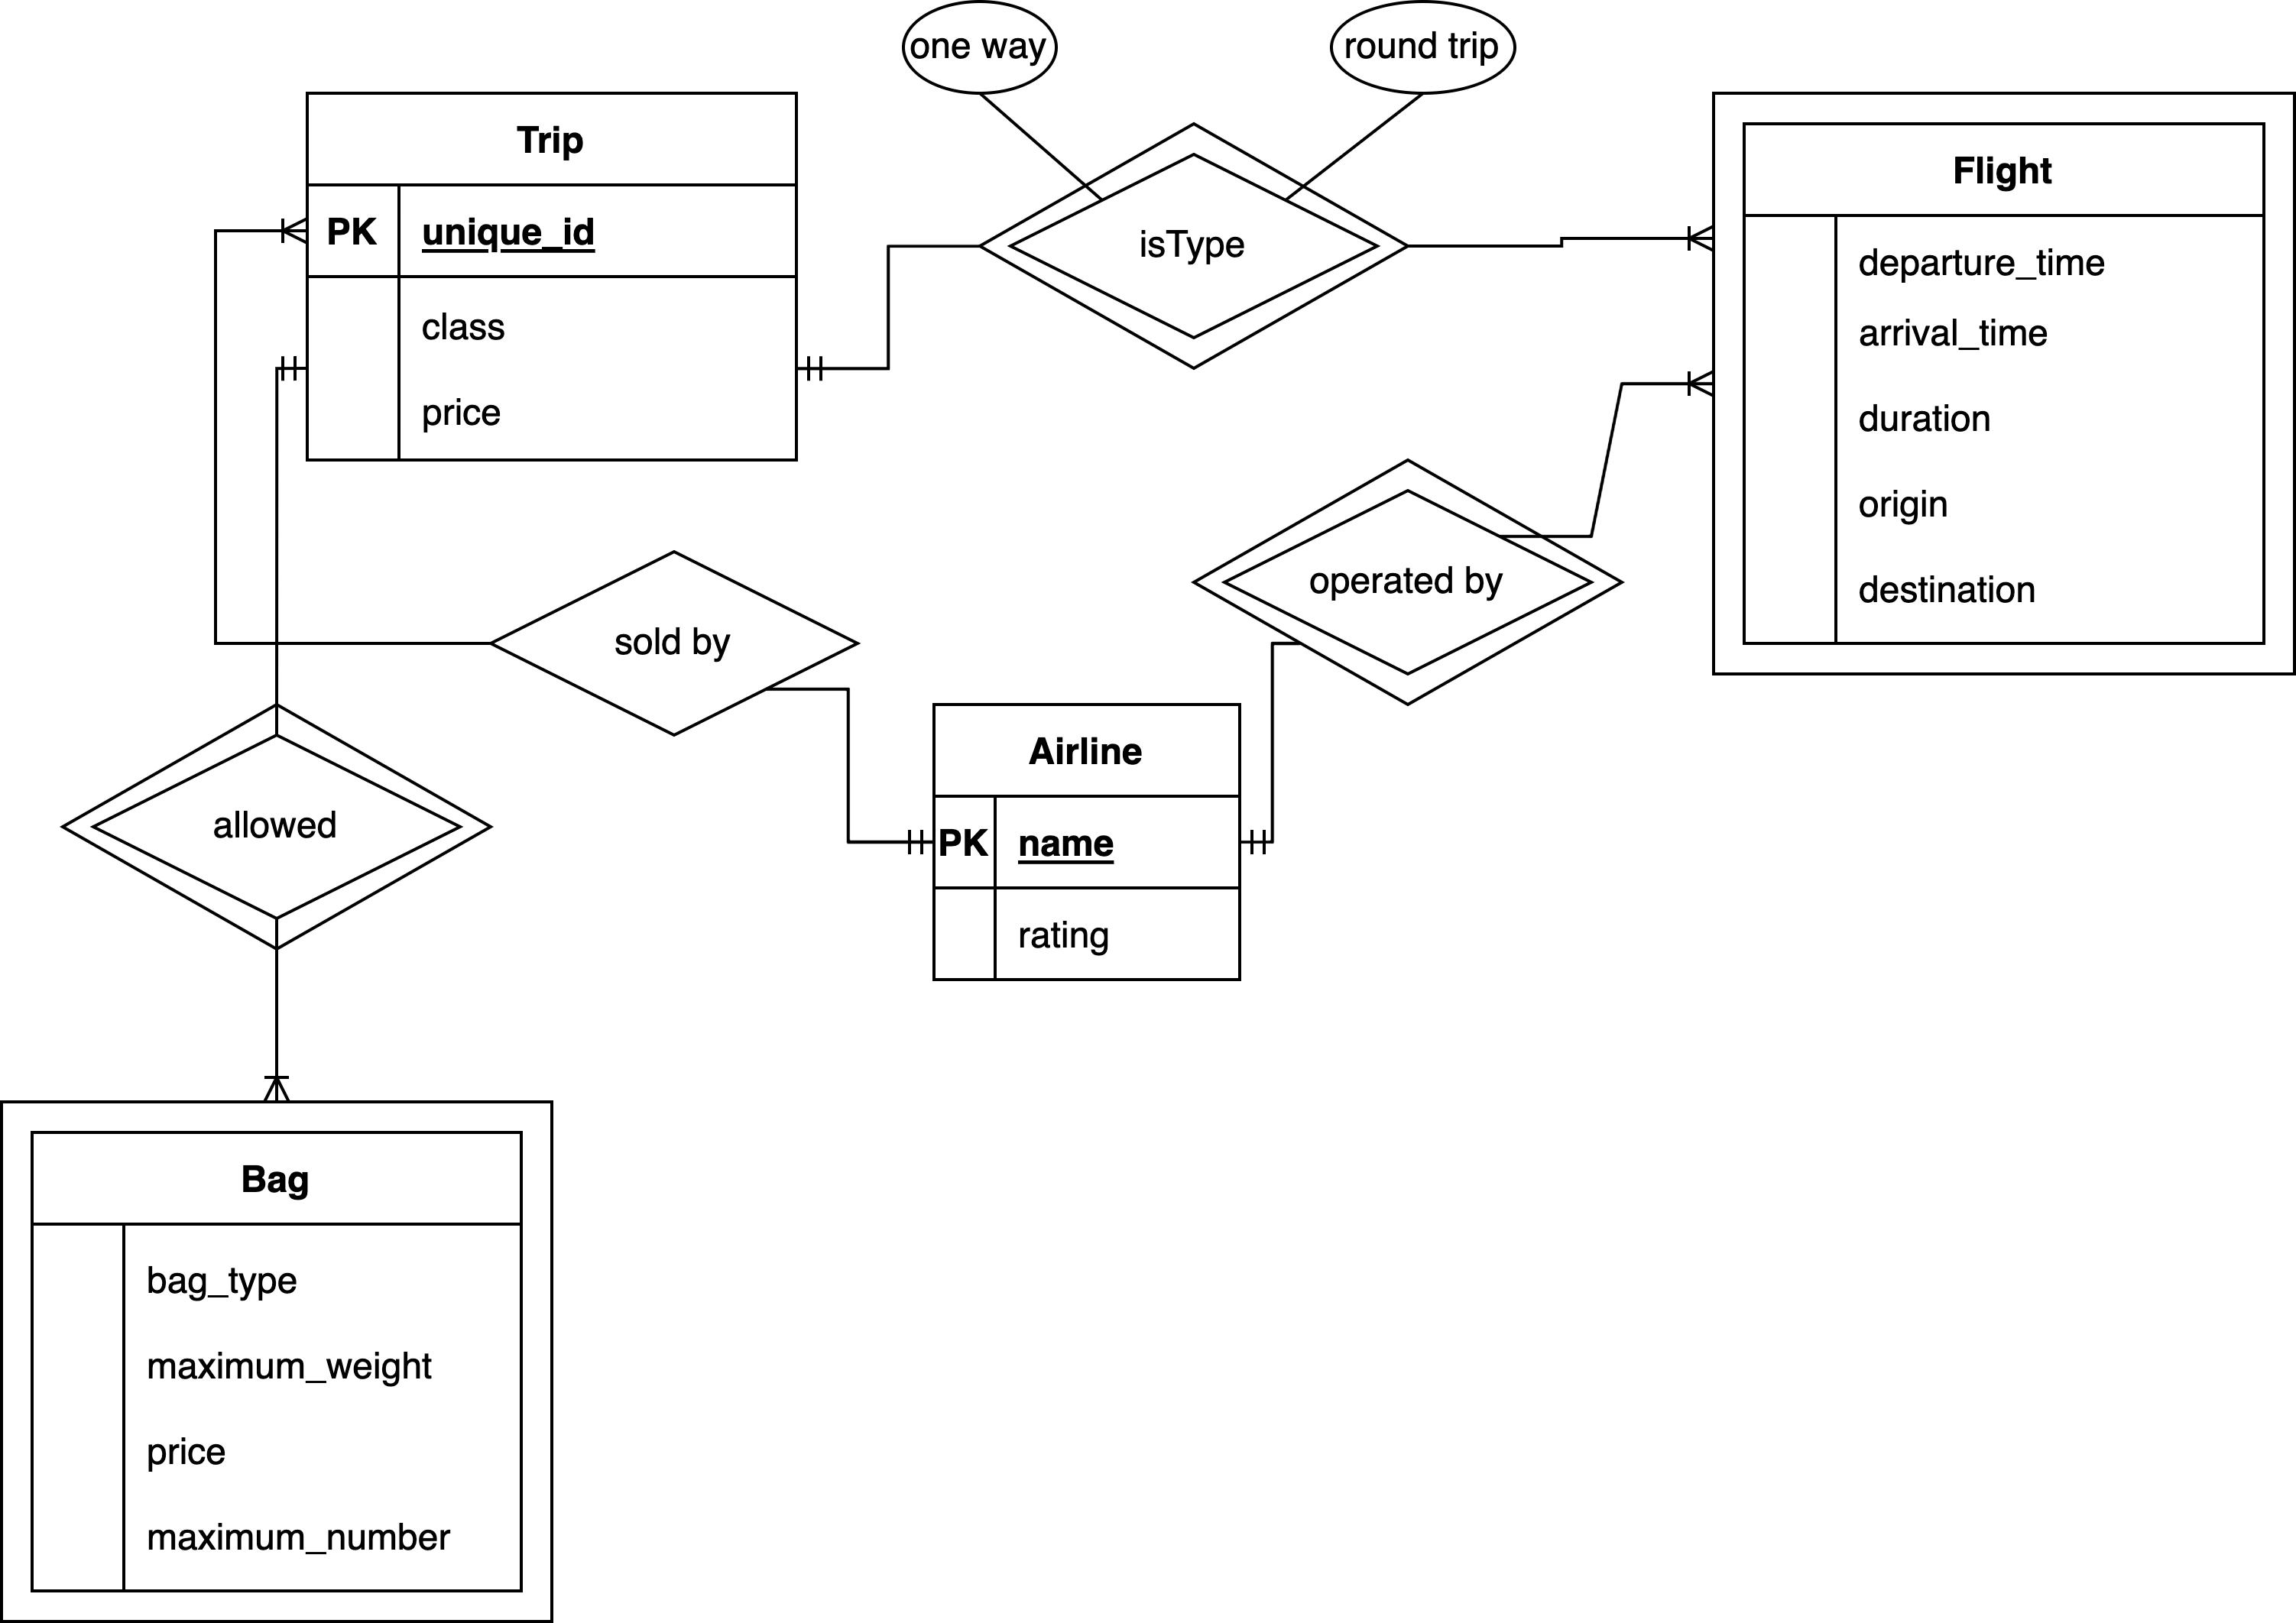attribute: (1328, 0, 1520, 95), (899, 0, 1059, 97)
entity: (304, 86, 803, 469), (922, 699, 1245, 991)
relationship: (494, 550, 863, 741)
weakentity: (1706, 84, 2296, 682), (0, 1096, 555, 1623)
weakrelationship: (1195, 460, 1623, 708), (63, 708, 492, 945), (984, 126, 1398, 371)
